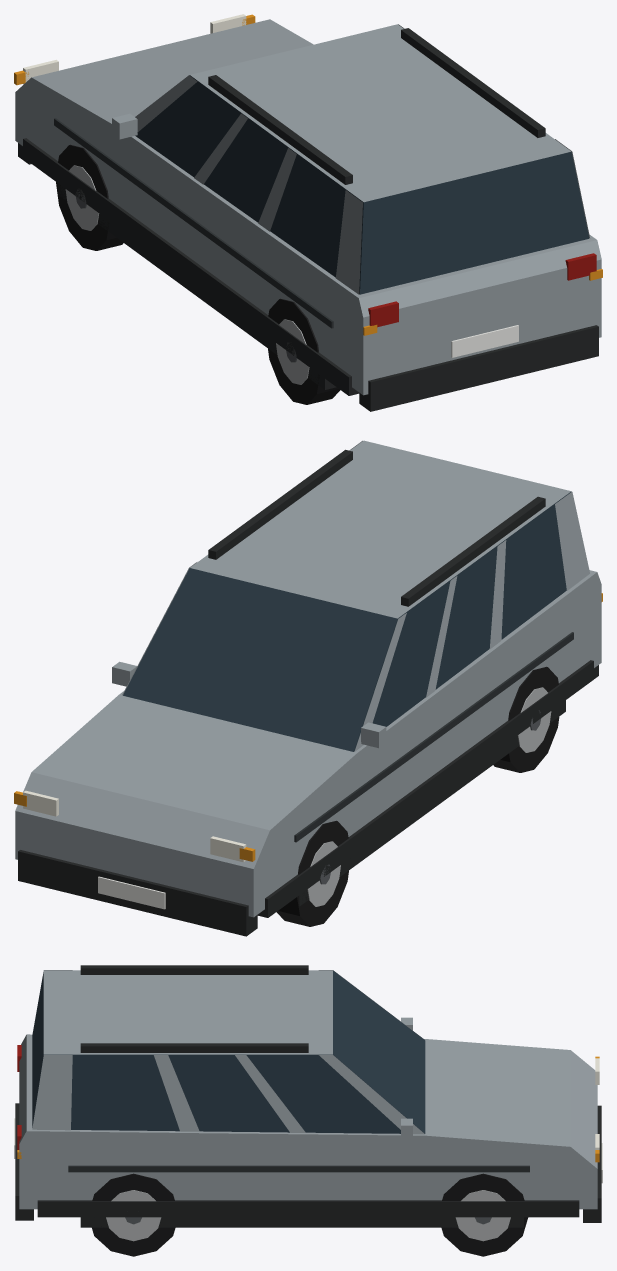
The model's file is suv.glb.
The picture shows the model from 3 angles, top to bottom: view 1: azimuth 30°, elevation 25°; view 2: azimuth 150°, elevation 25°; view 3: azimuth 270°, elevation 25°; orthographic projection. The views are drawn at different scales.
Parts seen in each view (by area): view 1: Suv, TailR, TailL; view 2: Suv; view 3: Suv.
Part boxes in pixels (left/top/right/bottom): Suv: left=15, top=19, right=601, bottom=411; TailR: left=565, top=253, right=596, bottom=280; TailL: left=368, top=301, right=398, bottom=327; Suv: left=15, top=440, right=601, bottom=936; Suv: left=14, top=965, right=602, bottom=1256.
Size of the model in its own units: 2.08 by 1.81 by 4.78.
